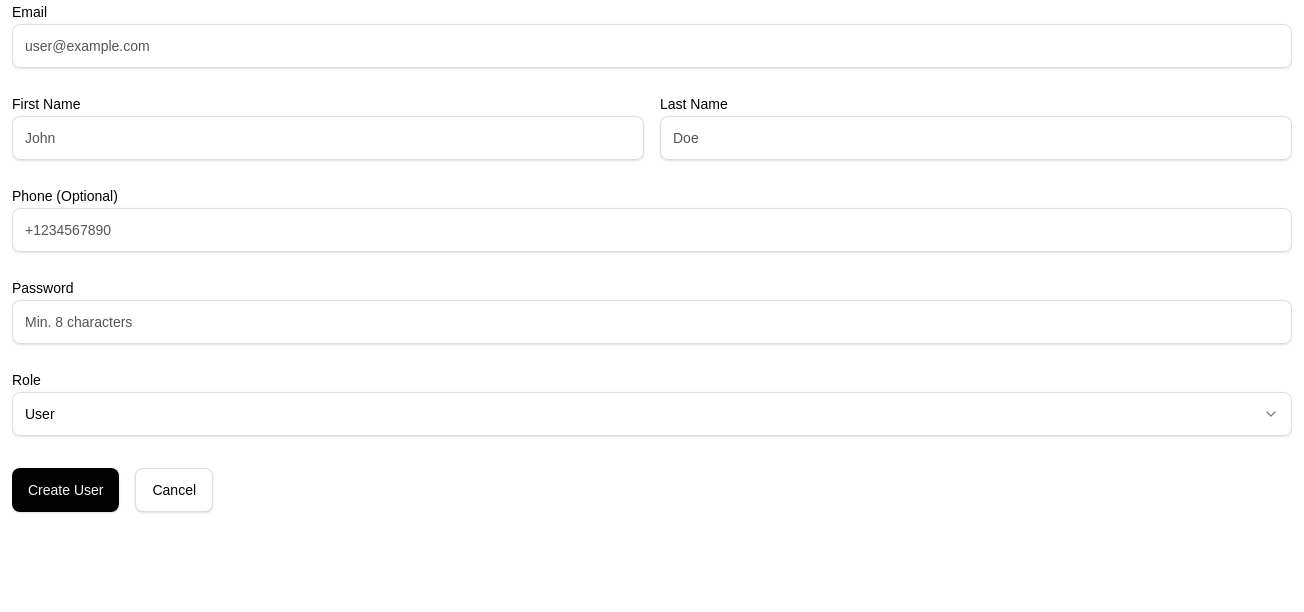
UserCreationForm › validates first name minimum length
Type "a" into the field labelled "First Name".
click(328, 138); type("a")  # box [12,116,644,160]
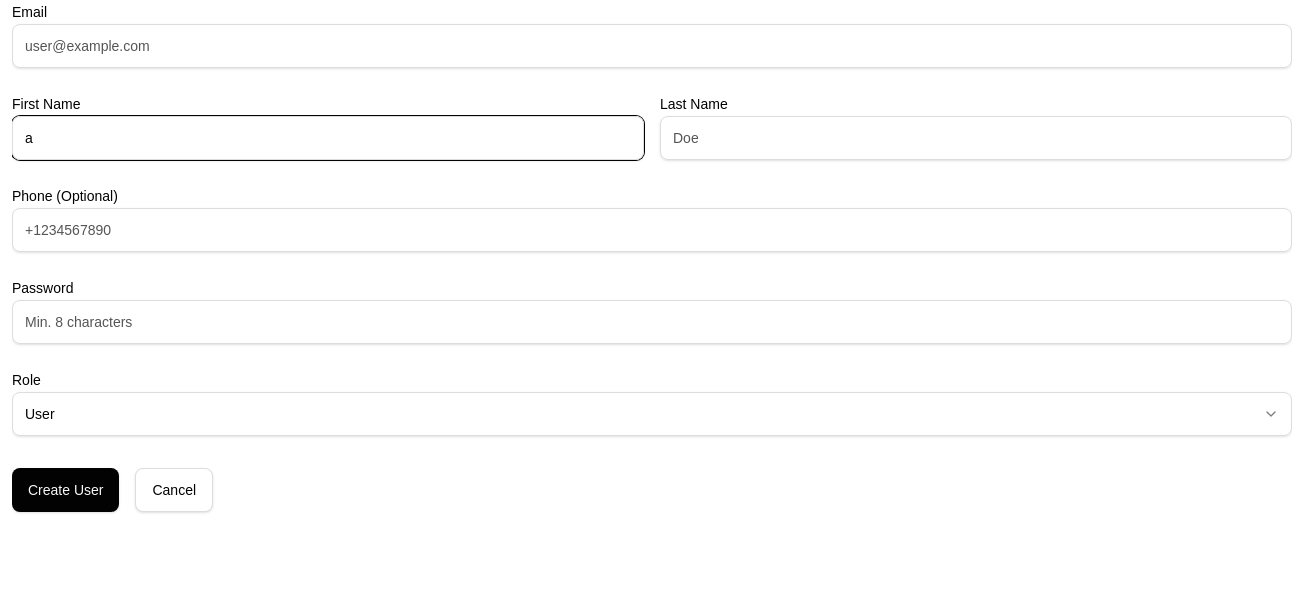
Click the button "Create User".
click(66, 490)  # box [12,468,120,512]
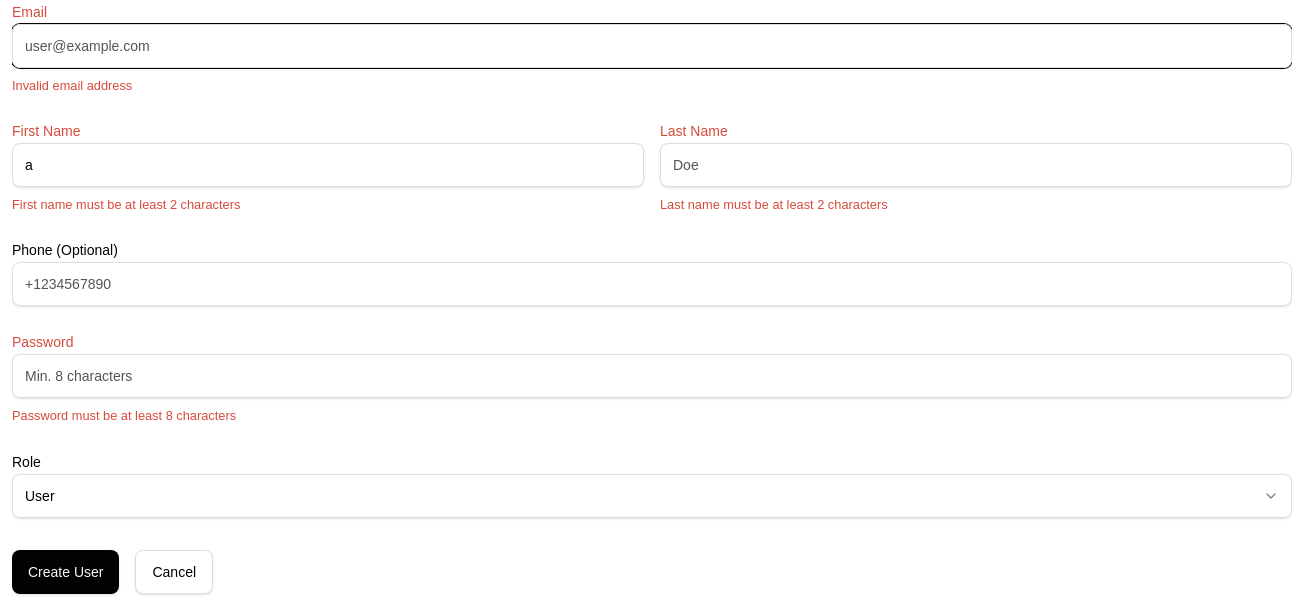
expect the text "First name must be at least 2 characters" is shown: met, box [12,197,240,212]
